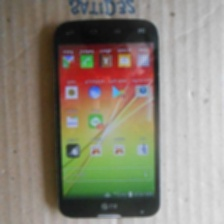phone: (52, 13, 163, 222)
